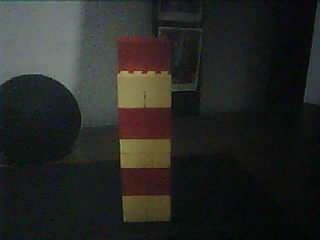lego: (116, 28, 173, 223)
